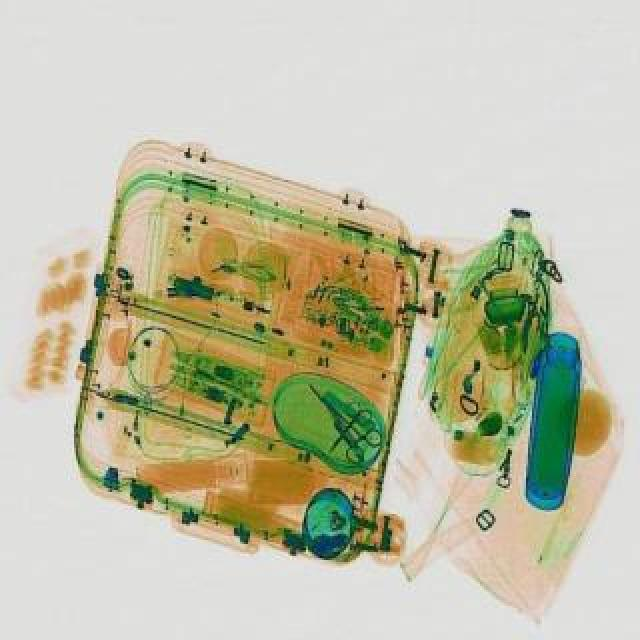pliers: (292, 370, 384, 462), (310, 394, 374, 458)
